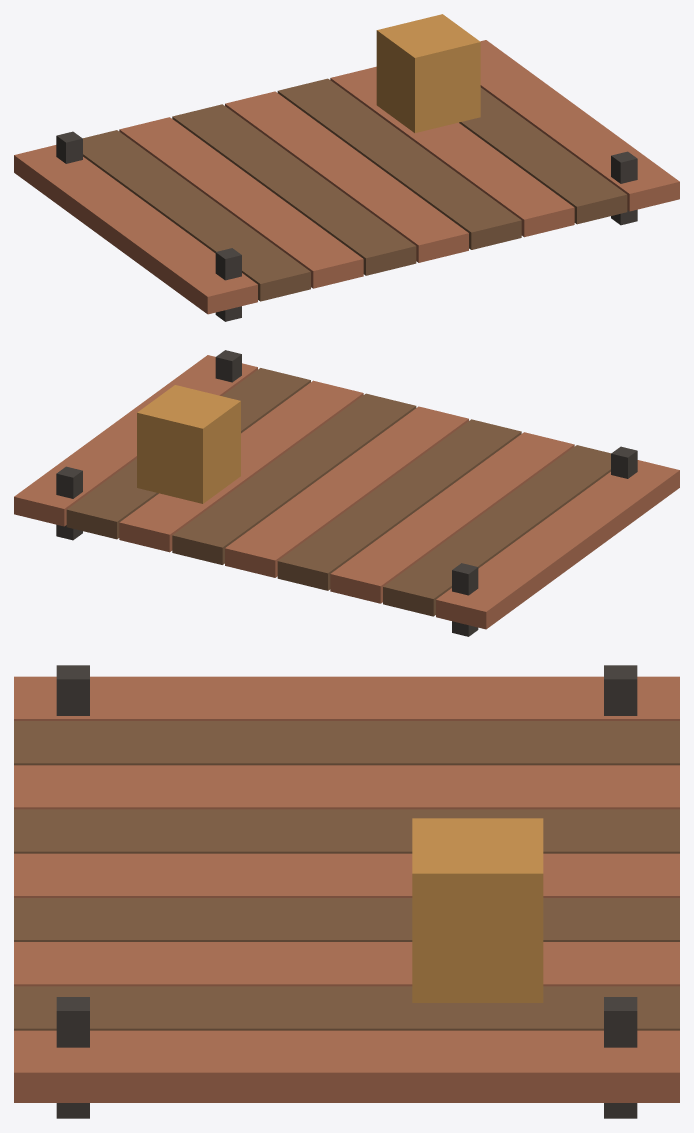
The model's file is bld_dock.glb.
The picture shows the model from 3 angles, top to bottom: view 1: azimuth 30°, elevation 25°; view 2: azimuth 150°, elevation 25°; view 3: azimuth 270°, elevation 25°; orthographic projection. The views are drawn at different scales.
Visible parts, largest first — view 1: bld_dock; view 2: bld_dock; view 3: bld_dock.
Boxes of the visible parts, x1=… form: bld_dock: x1=14, y1=14, x2=679, y2=321; bld_dock: x1=14, y1=350, x2=679, y2=636; bld_dock: x1=14, y1=665, x2=679, y2=1118.
Bounding box in the file's own units: 3.94 × 0.93 × 2.8.
Materials: 1 (1 with a texture image).
